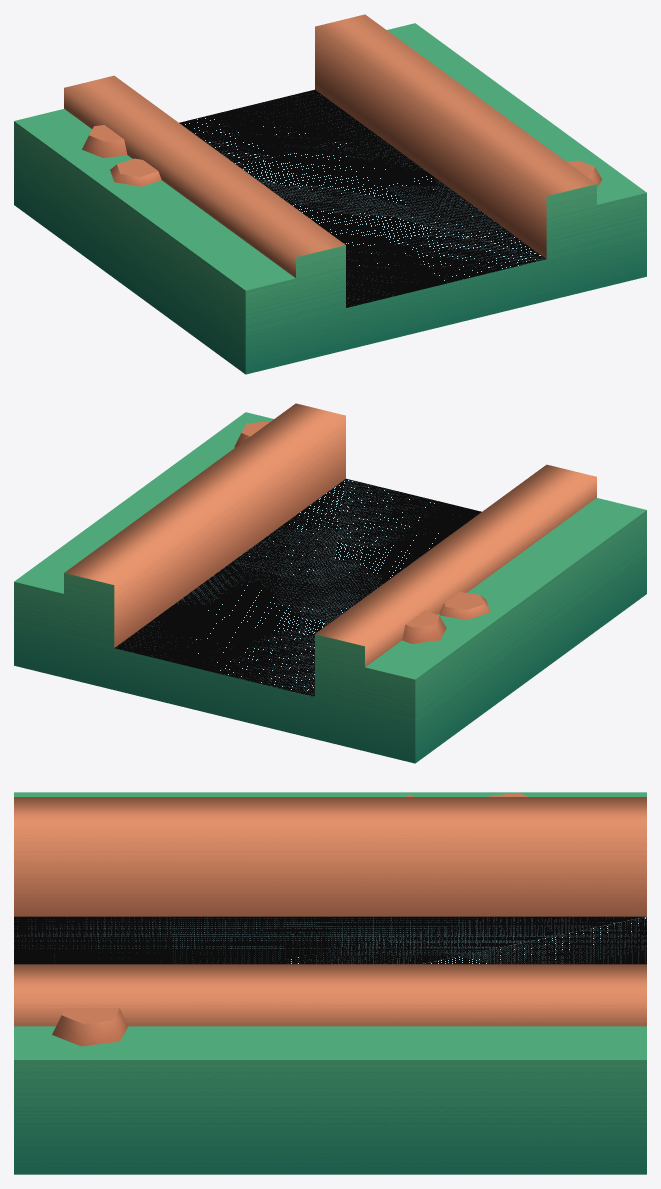
Rendered from tower-defense-kit--tile-river-straight.glb.
3 renders of one model, top to bottom at view 1: azimuth 30°, elevation 25°; view 2: azimuth 150°, elevation 25°; view 3: azimuth 270°, elevation 25°, orthographic. The views are drawn at different scales.
Visible parts, largest first — view 1: tile-river-straight; view 2: tile-river-straight; view 3: tile-river-straight.
Part boxes in pixels (left/top/right/bottom): tile-river-straight: left=14, top=14, right=646, bottom=374; tile-river-straight: left=14, top=403, right=646, bottom=763; tile-river-straight: left=14, top=792, right=646, bottom=1174.
Bounding box in the file's own units: 1 × 0.25 × 1.
Materials: 1 (1 with a texture image).
